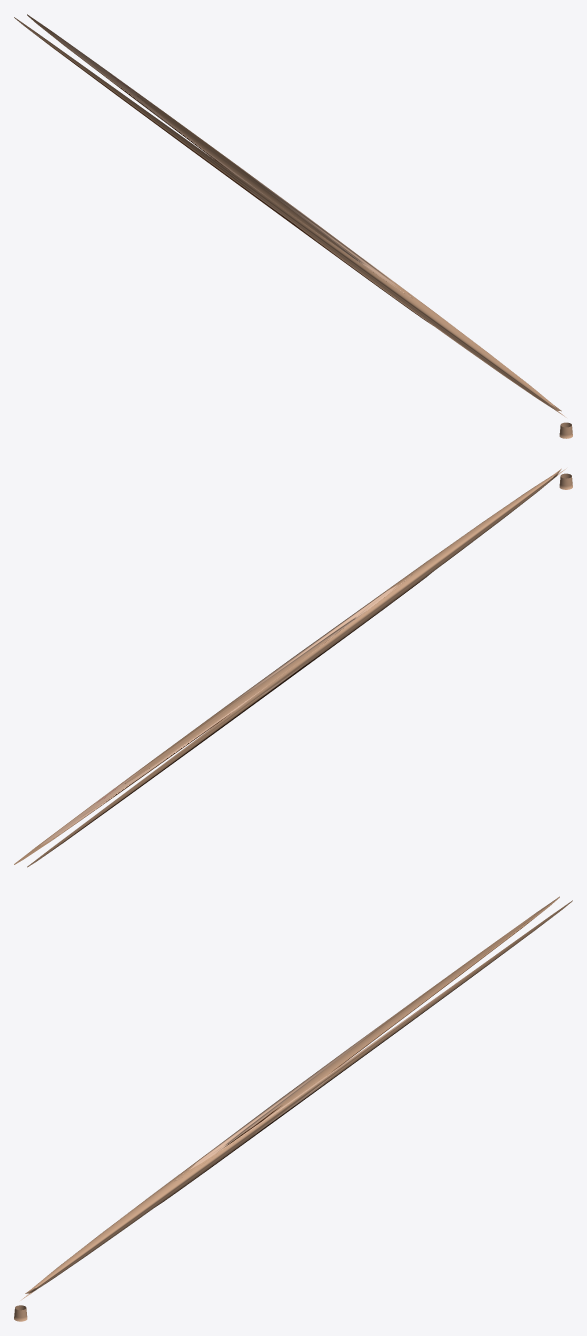
3 renders of one model, top to bottom at view 1: azimuth 30°, elevation 25°; view 2: azimuth 150°, elevation 25°; view 3: azimuth 330°, elevation 25°, orthographic.
Parts seen in each view (by area): view 1: AvatarHead; view 2: AvatarHead; view 3: AvatarHead.
Boxes of the visible parts, left/top/right/bottom form: AvatarHead: left=14, top=14, right=572, bottom=438; AvatarHead: left=14, top=468, right=572, bottom=867; AvatarHead: left=14, top=896, right=572, bottom=1321.
Size of the model in its own units: 0.155 by 0.2832 by 11.06.
Materials: 1 (1 with a texture image).
